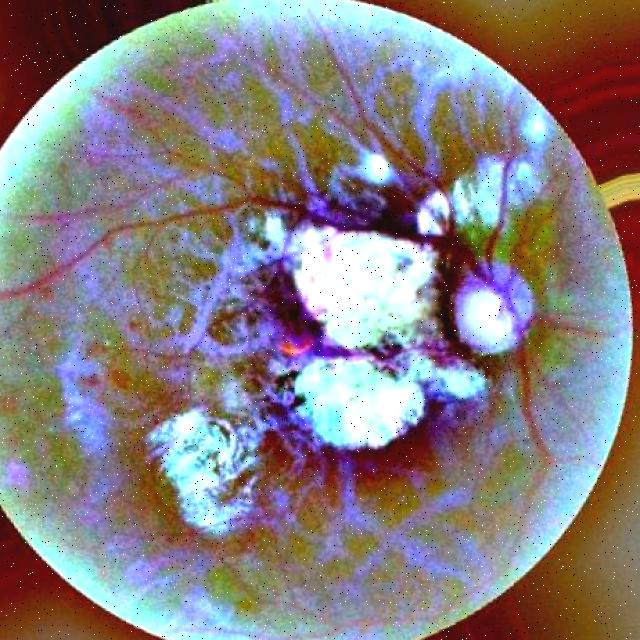Macula: (245, 273, 320, 354)
Nerves: (1, 156, 489, 297), (496, 291, 555, 547), (486, 91, 517, 279)
Optic Disk: (454, 262, 533, 353)
